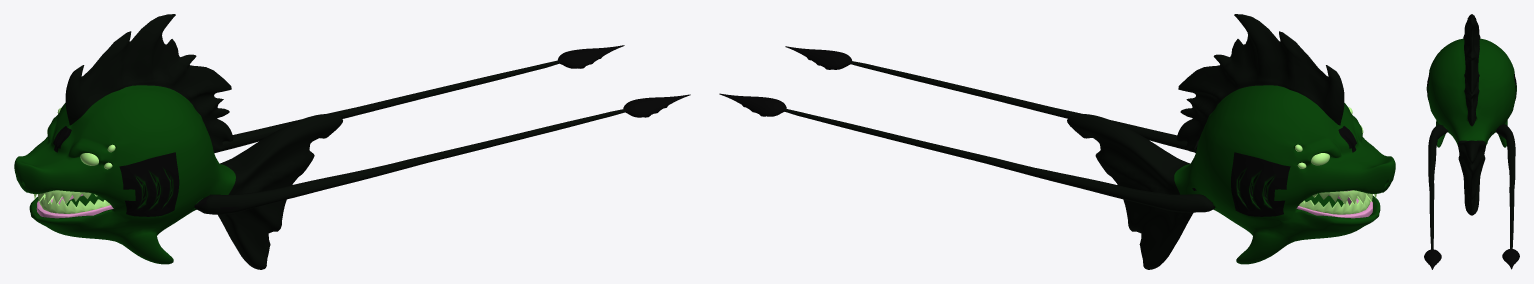
Rendered from Shark_Ver4.fbx.
3 views of the same model, side by side, from view 1: azimuth 30°, elevation 25°; view 2: azimuth 150°, elevation 25°; view 3: azimuth 270°, elevation 25° (orthographic). The views are drawn at different scales.
Parts seen in each view (by area): view 1: pPlane6, teeth1, teeth2; view 2: pPlane6, teeth1, teeth2; view 3: pPlane6.
Boxes of the visible parts, box(x1,y1,x2,y2) form: pPlane6: box(14, 14, 690, 269); teeth1: box(36, 194, 113, 218); teeth2: box(34, 190, 97, 203); pPlane6: box(719, 14, 1395, 269); teeth1: box(1296, 195, 1372, 218); teeth2: box(1312, 190, 1376, 204); pPlane6: box(1424, 14, 1519, 269).
Bounding box in the file's own units: 32.87 × 13.61 × 7.08.
